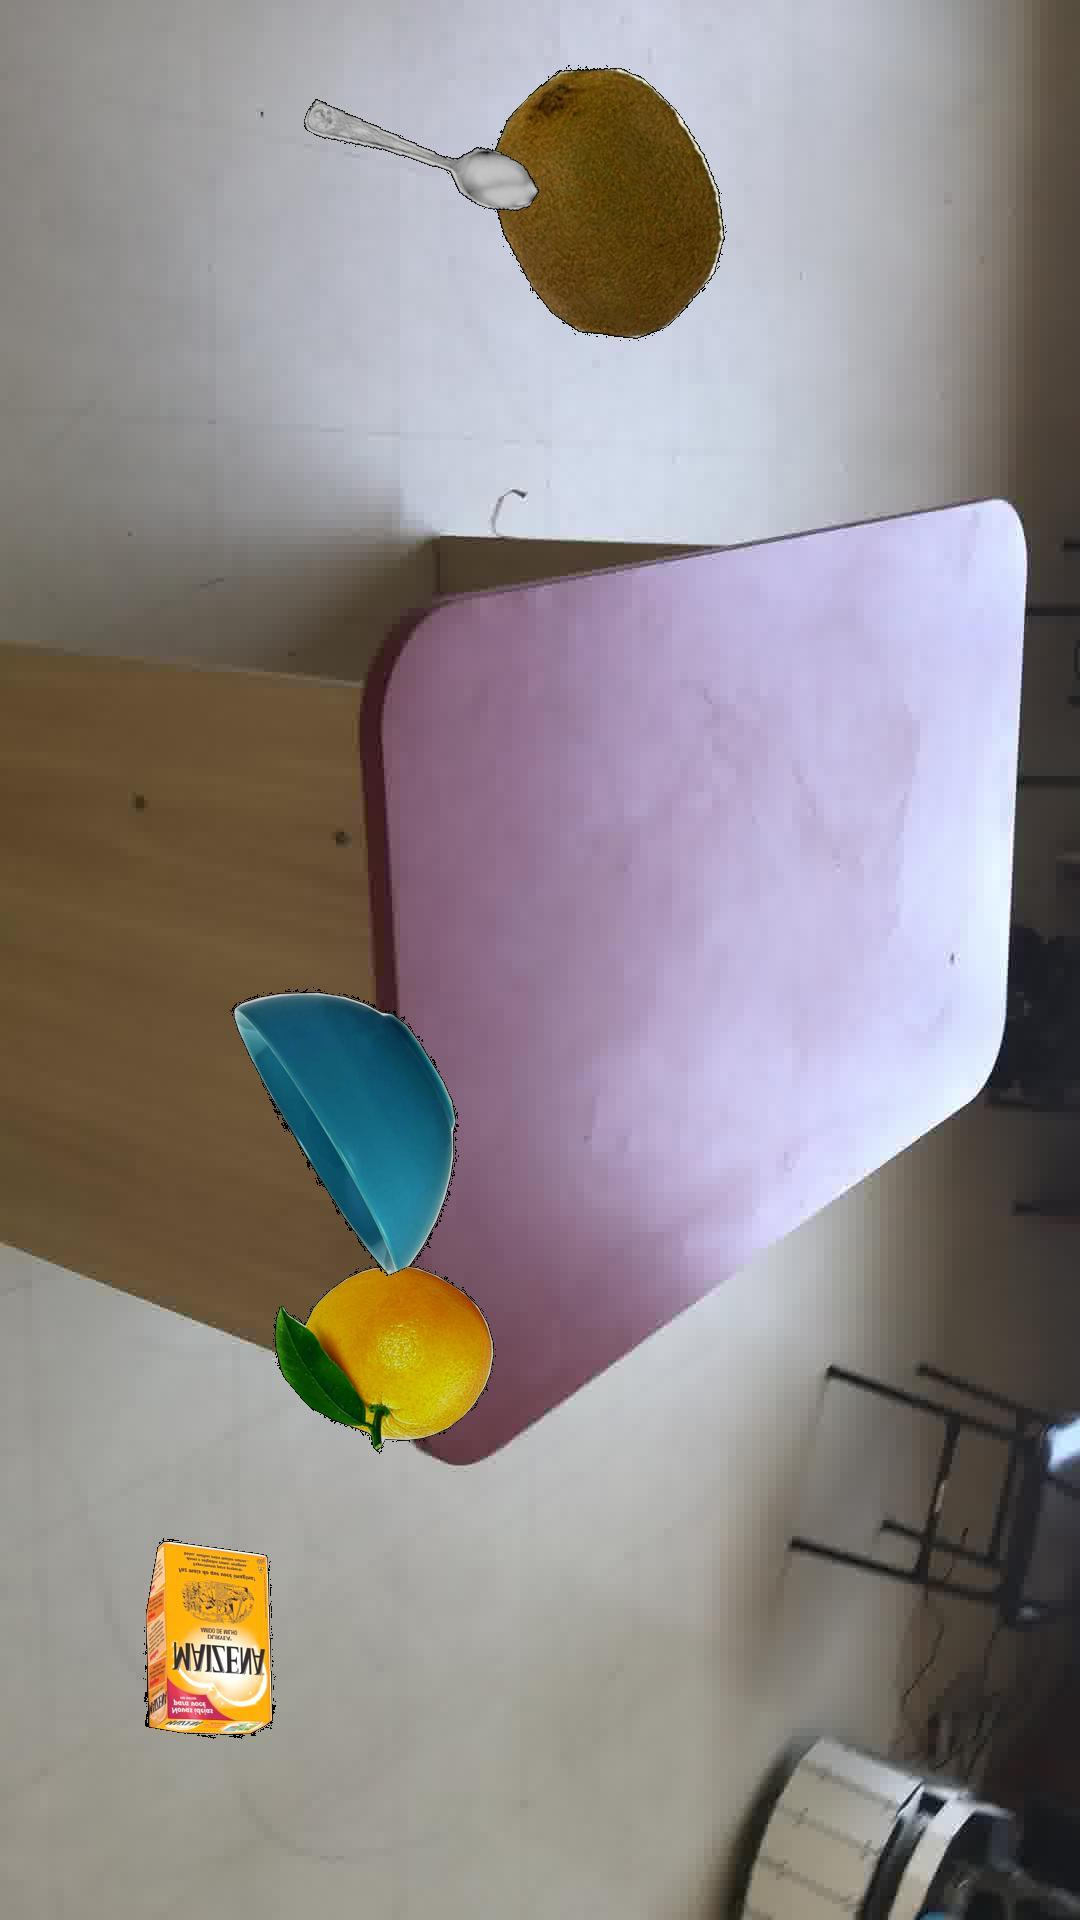bowl: (231, 988, 458, 1274)
kiwi: (493, 66, 724, 338)
orange: (273, 1265, 492, 1451)
spoon: (302, 98, 538, 210)
